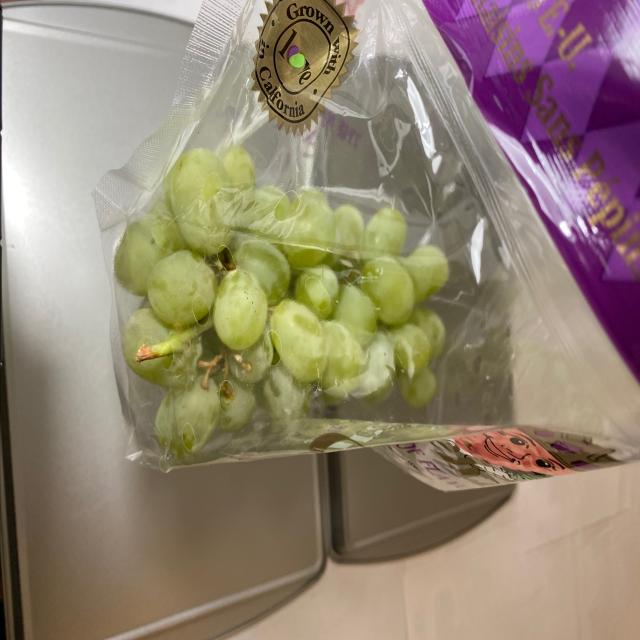grapes: (119, 150, 459, 432)
